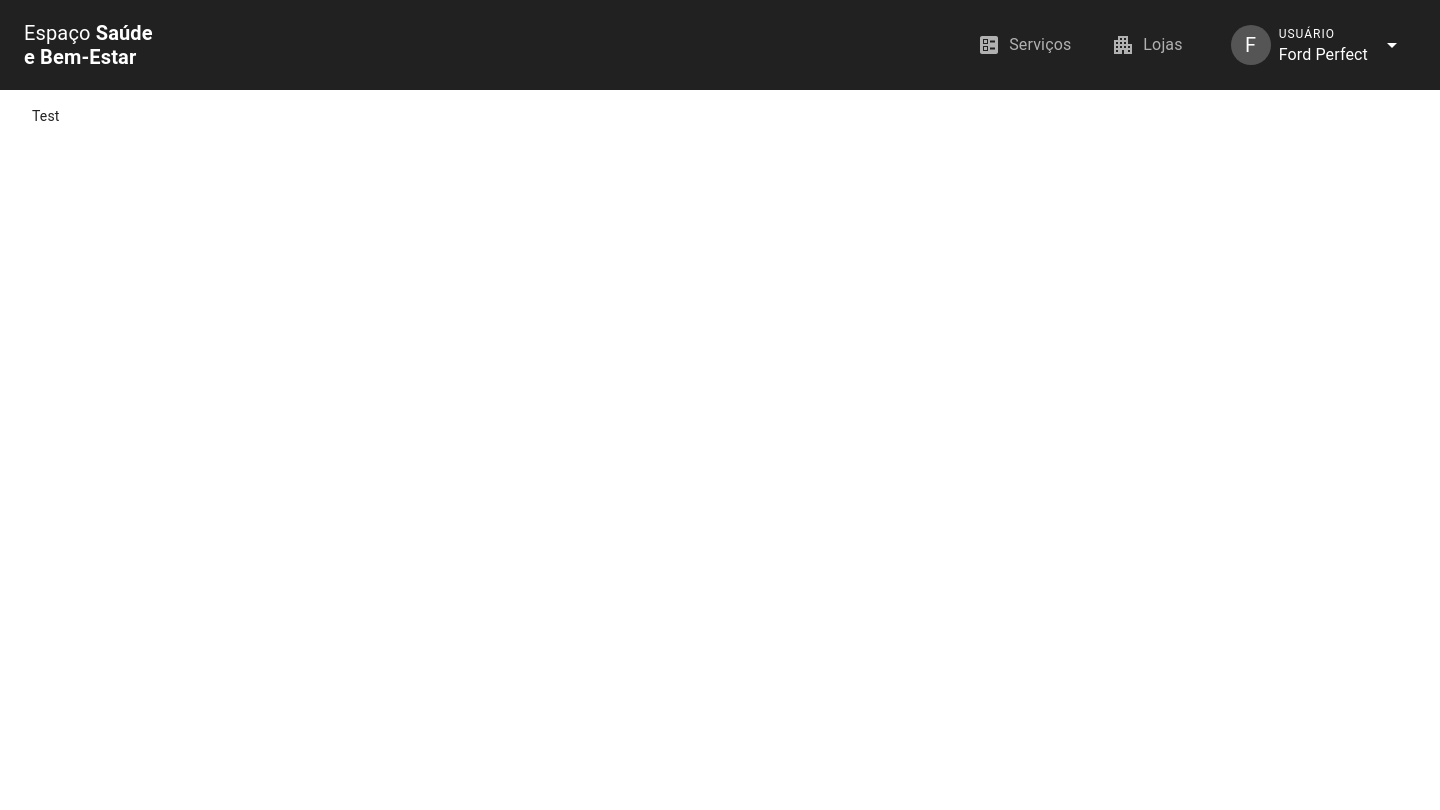
Scenario: Layout component › Should show toast error when logout promise rejects
The image size is (1440, 810).
Click the button named "mostrar opções do usuário": point(1392, 45) x1=1368 y1=21 x2=1416 y2=69
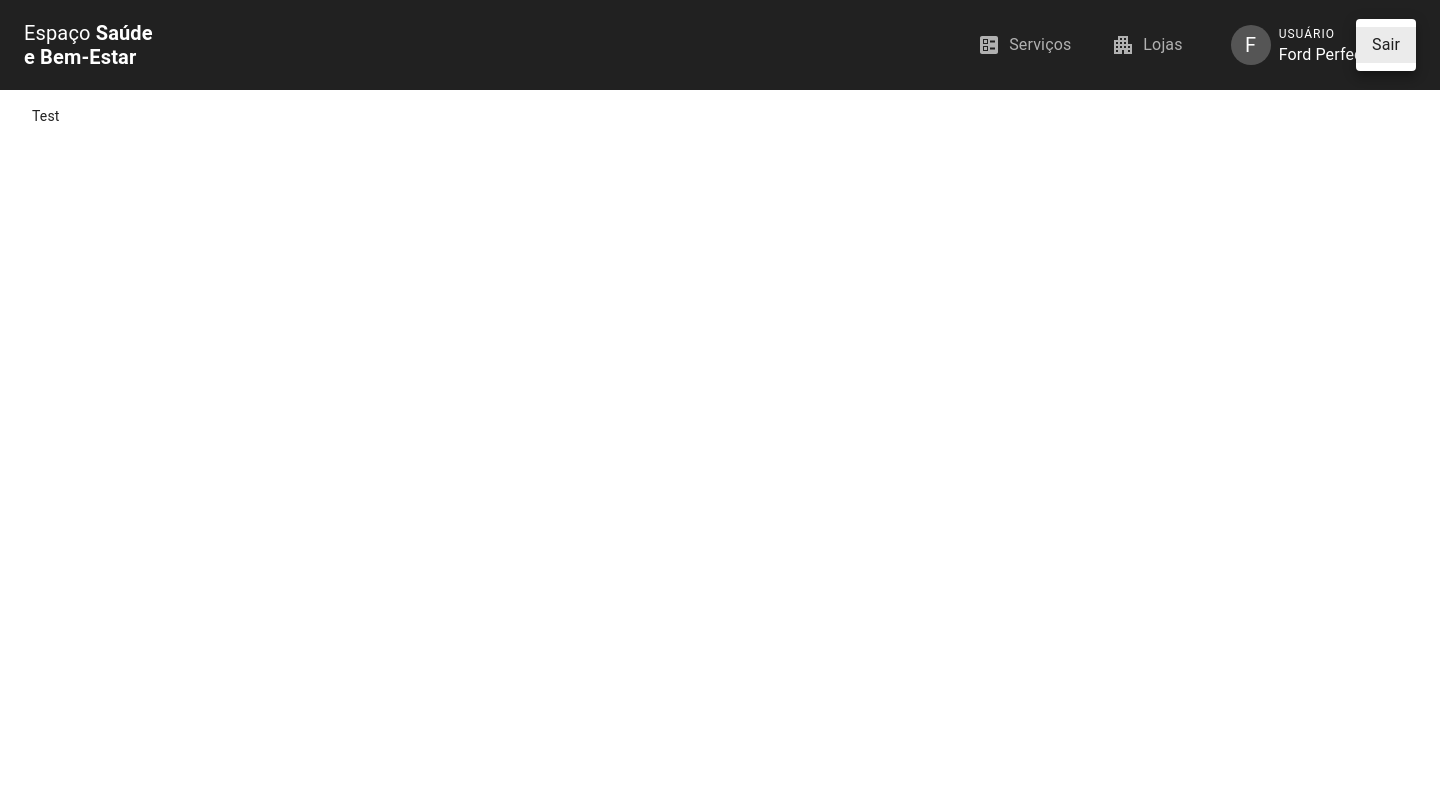
Click the menu item "Sair": point(1386, 45) x1=1356 y1=27 x2=1416 y2=63
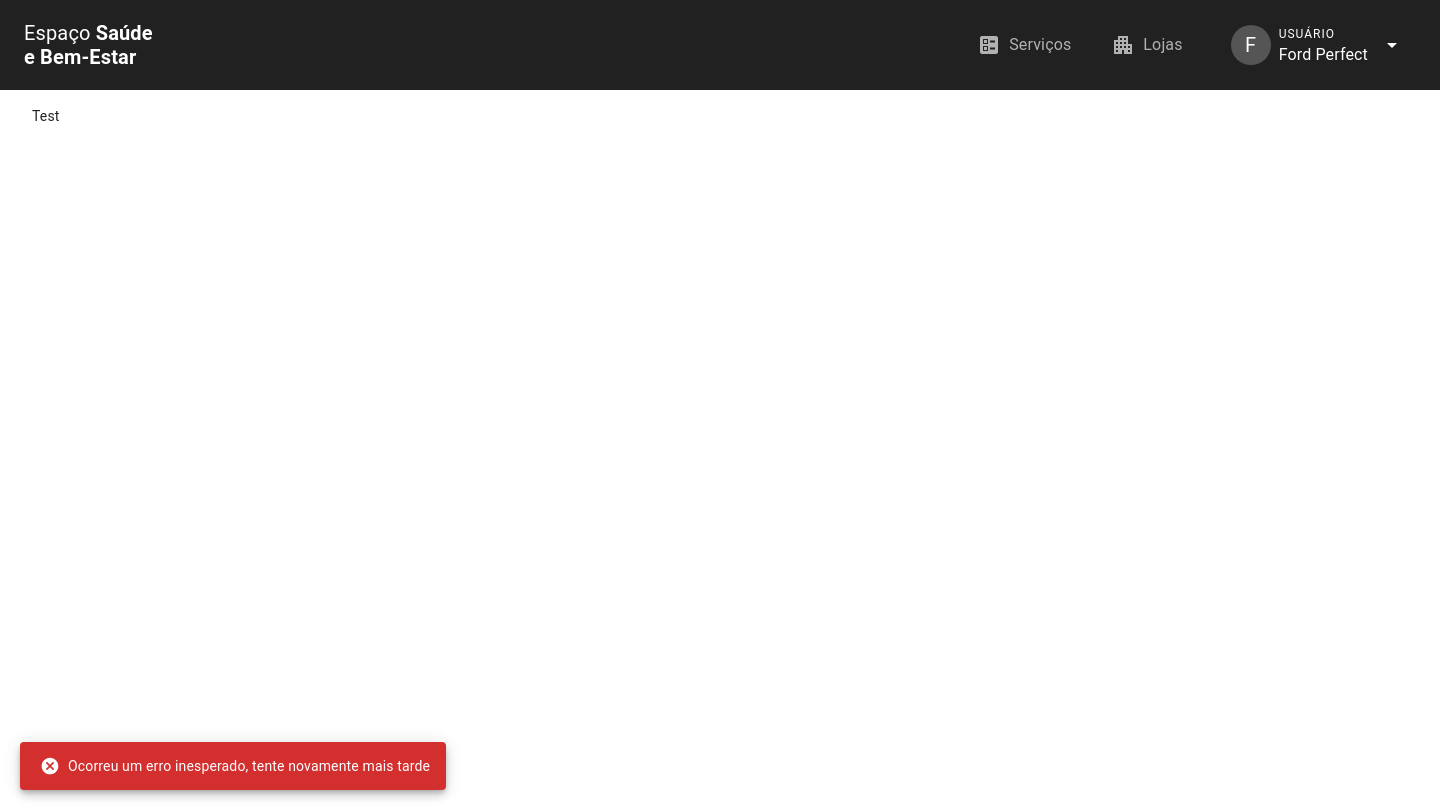
Expected: the text "Ocorreu um erro inesperado, tente novamente mais tarde" is shown, x1=40 y1=756 x2=430 y2=776
